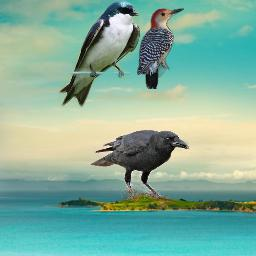Crow: (90, 130, 189, 199)
Swallow: (58, 0, 140, 107)
Woodpecker: (137, 8, 184, 89)
